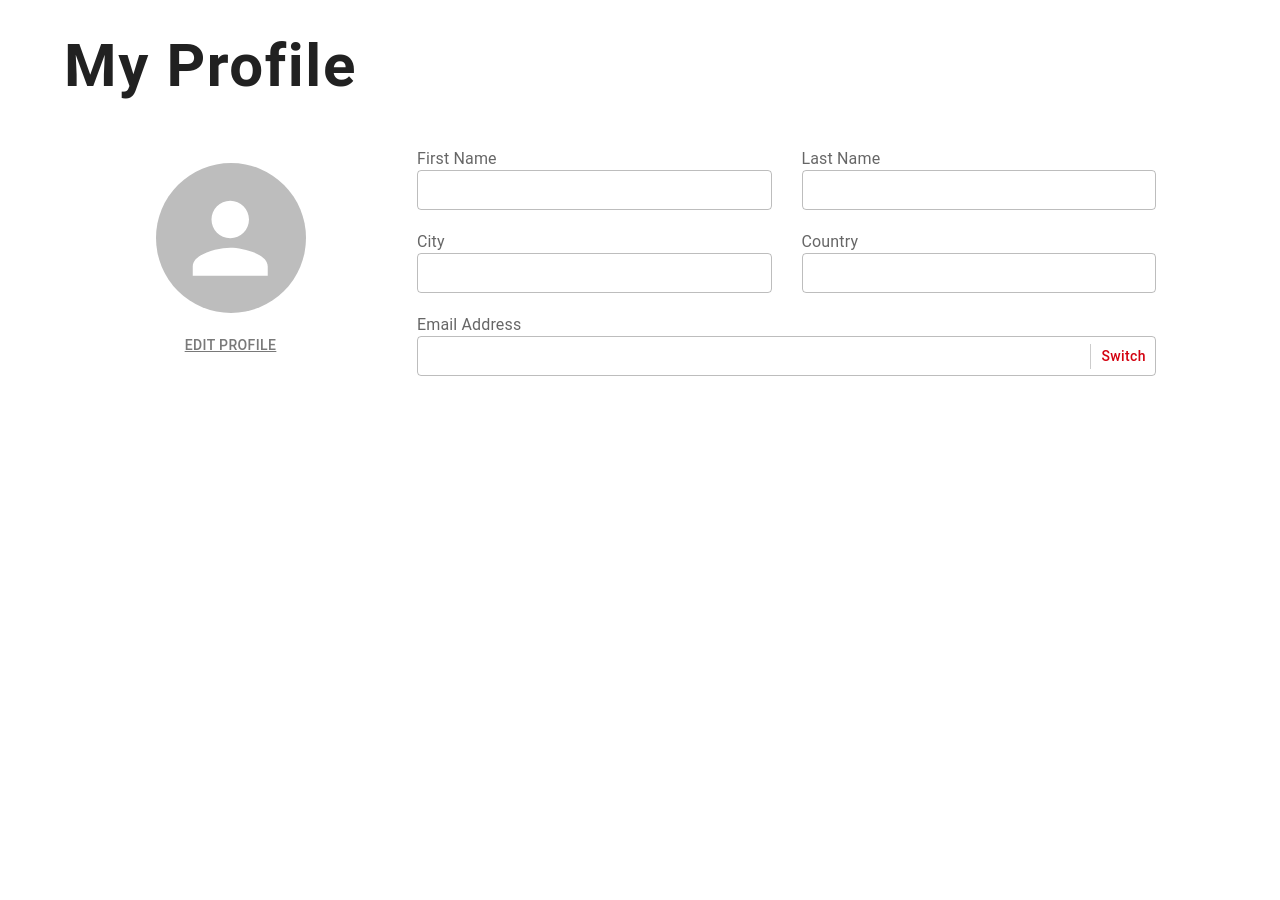
it: Proifle › shows error messages when clicking next button without code
Click the button "Switch" at x=1124, y=356, box [1091,344,1156,368]
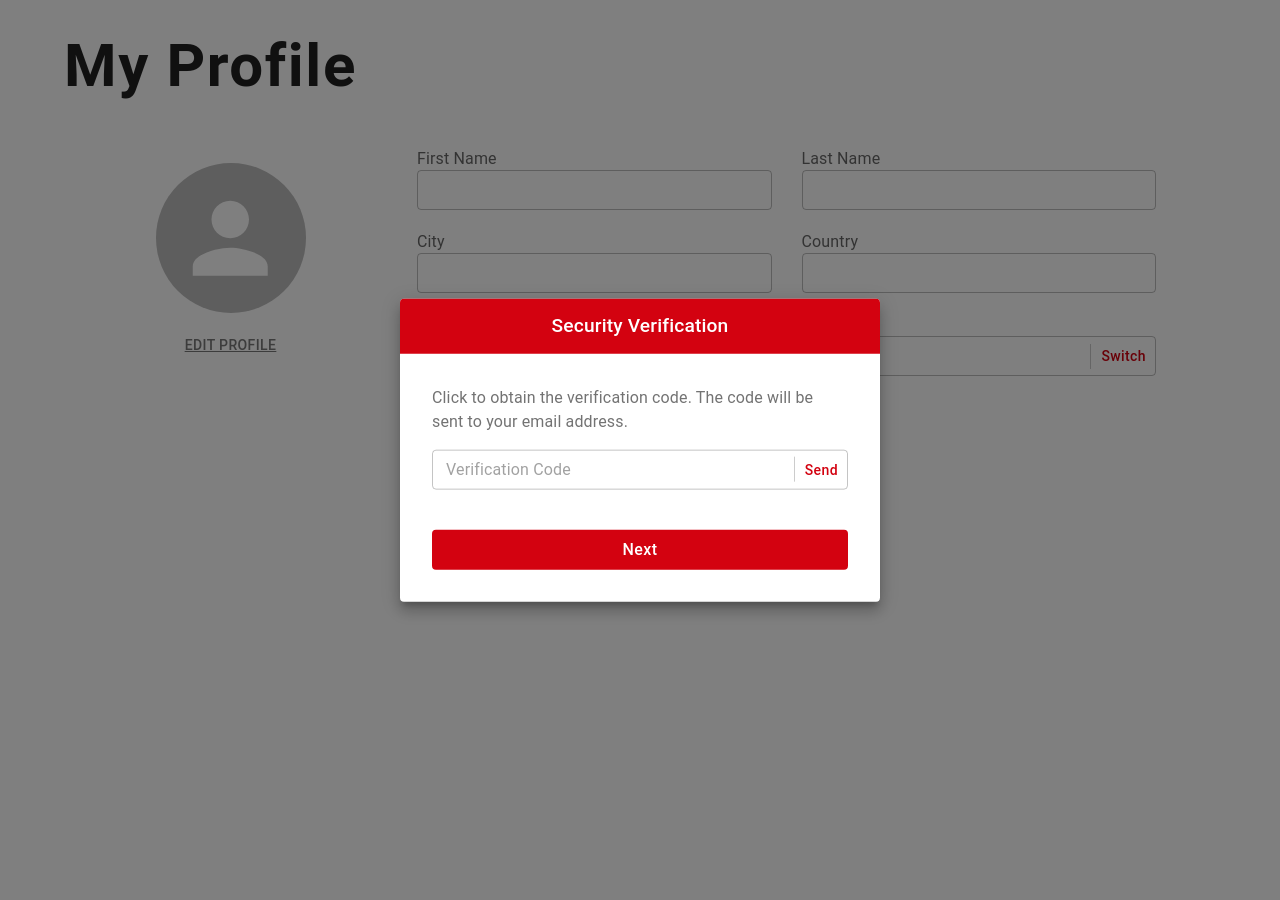
Click the button "Next" at x=640, y=549, box [432,529,848,569]
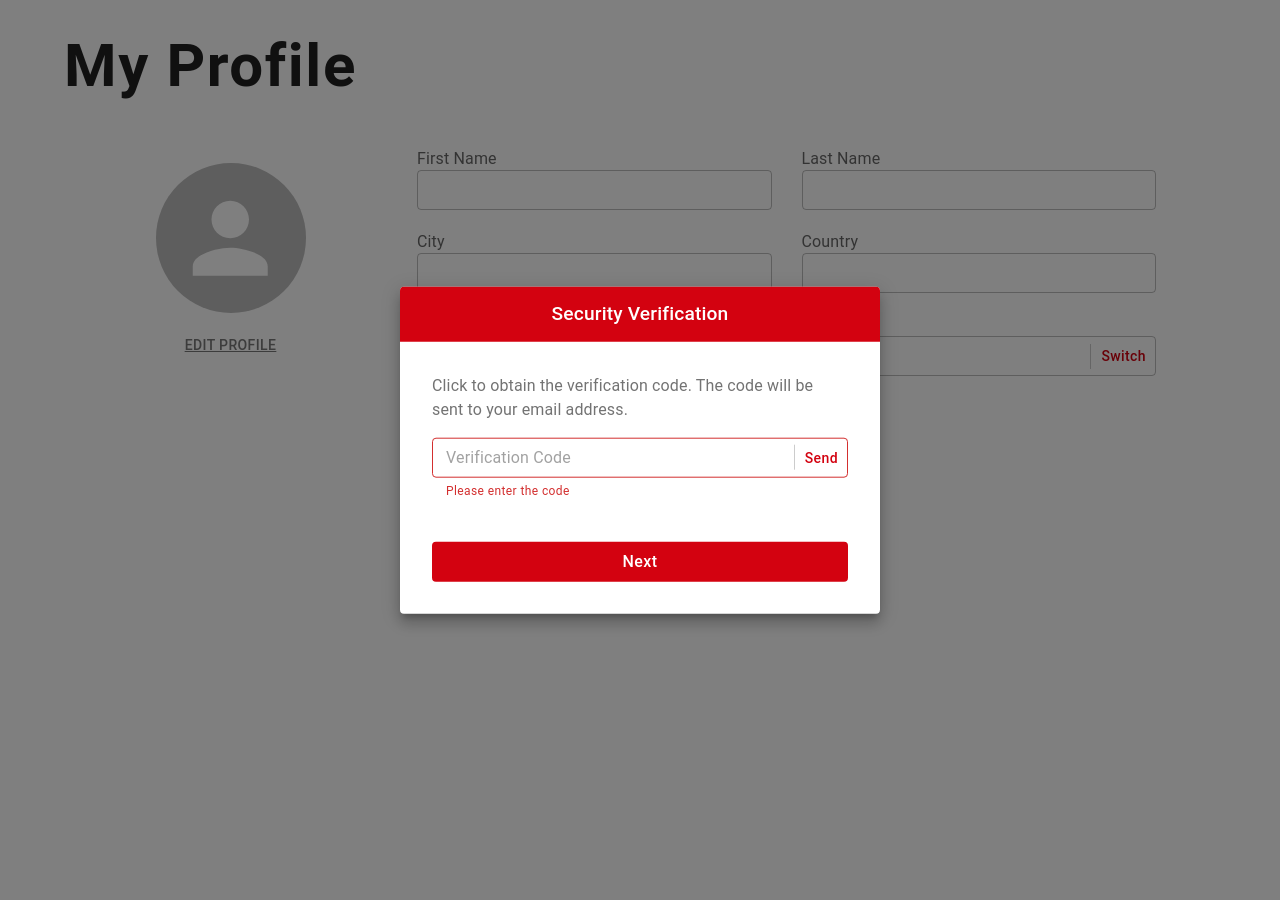
Now the text "Please enter the code" is shown, box [446,483,570,497]
